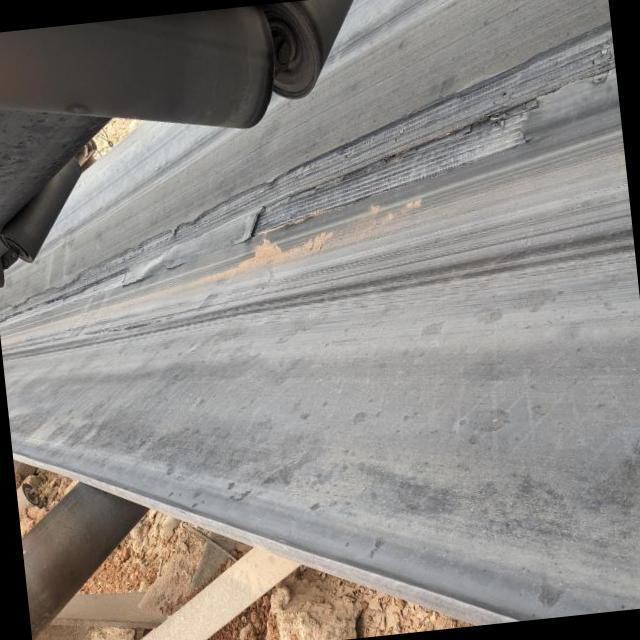Tear: (0, 19, 618, 330)
